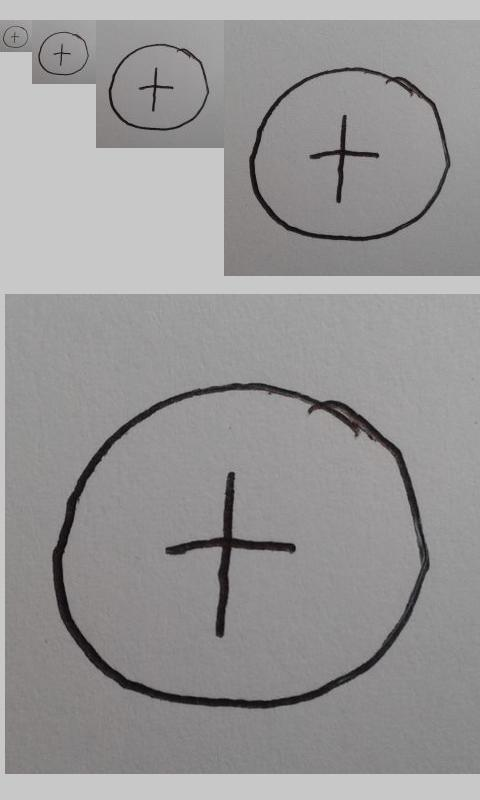button: (51, 381, 431, 711), (248, 64, 451, 243), (108, 43, 210, 131), (37, 31, 90, 76), (2, 25, 29, 48)
